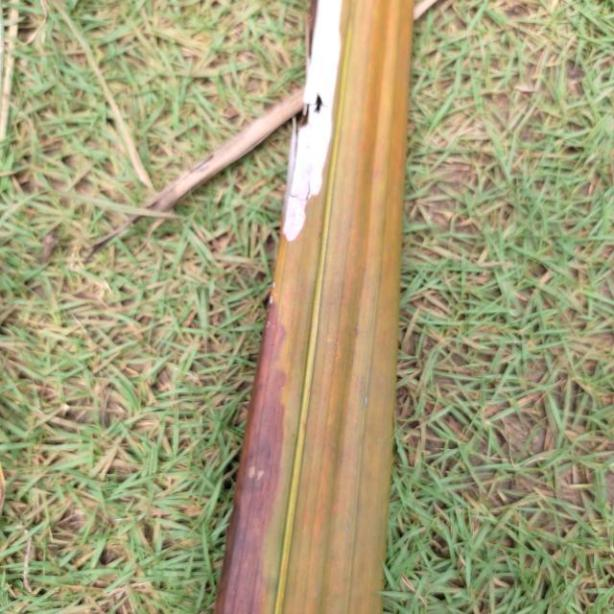Megnesium: (216, 0, 411, 614)
